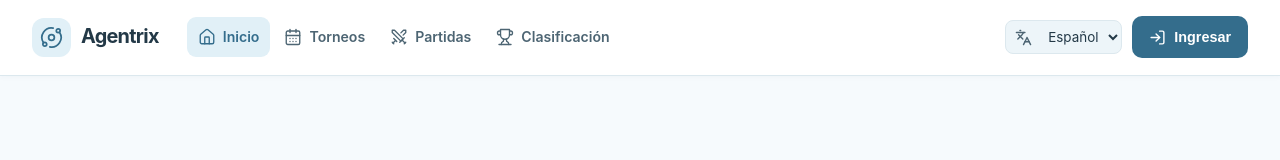
it: Localized React Components Rendering › switches Navbar language to English via the language selector
Select "English" in the dropdown named "Seleccionar idioma": (1080, 37) [1038,21,1121,53]
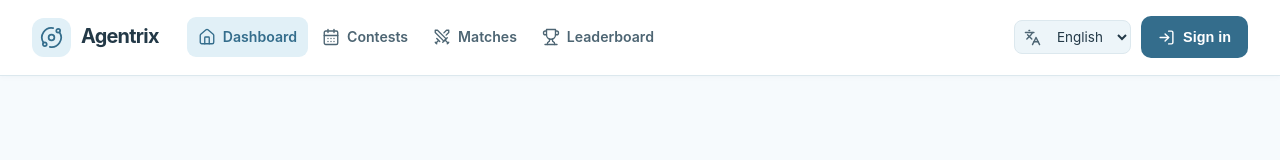
Result: the button "Dashboard" is shown at [187,17,308,56]
Result: the button "Matches" is shown at [422,17,528,56]
Result: the button "Leaderboard" is shown at [531,17,665,56]
